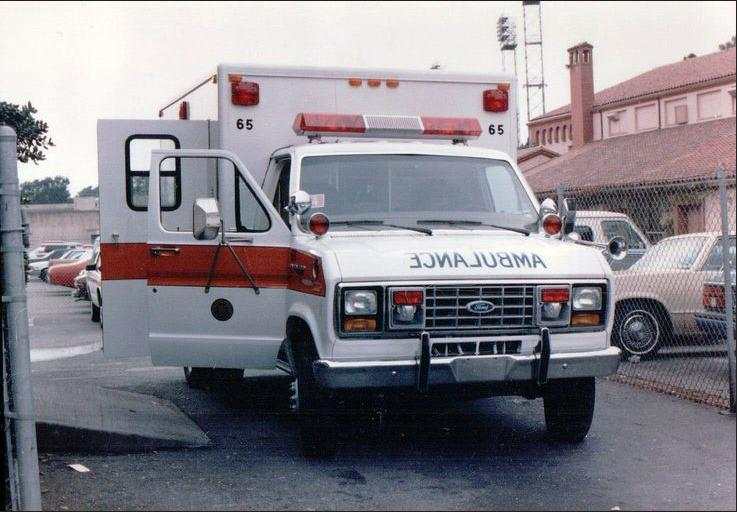ambulance_off: (96, 63, 621, 453)
